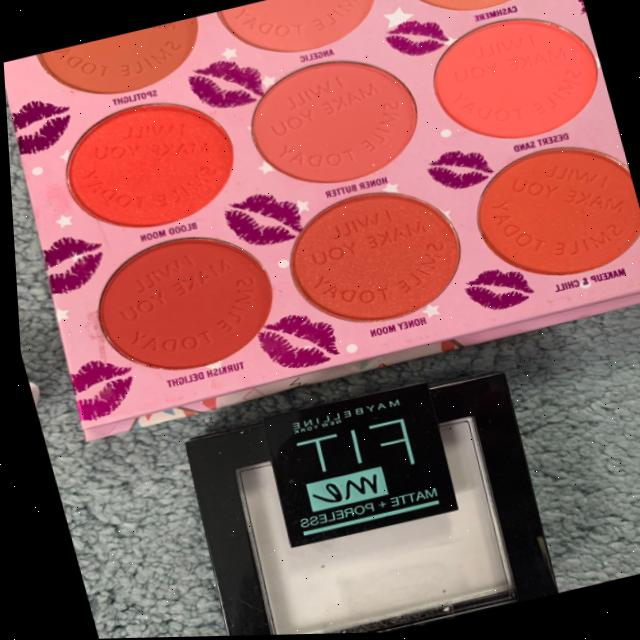eye shade: (68, 213, 296, 390), (227, 36, 438, 203), (273, 170, 476, 342), (40, 86, 250, 242), (414, 0, 614, 158), (459, 133, 640, 293), (16, 15, 217, 112), (208, 0, 389, 69), (381, 0, 573, 25)
